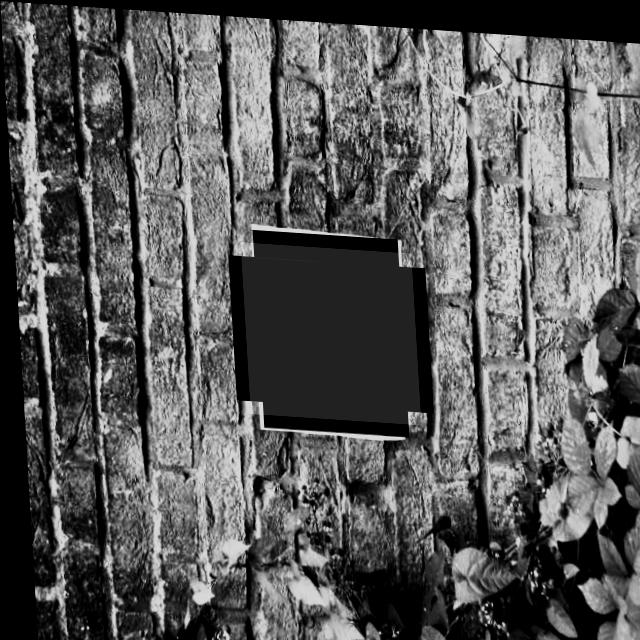qr_code: (238, 238, 417, 419)
